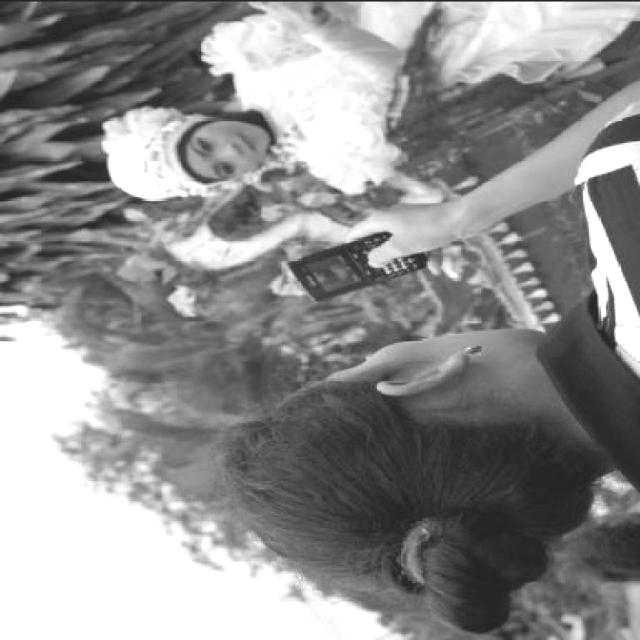fake: (288, 228, 427, 301)
